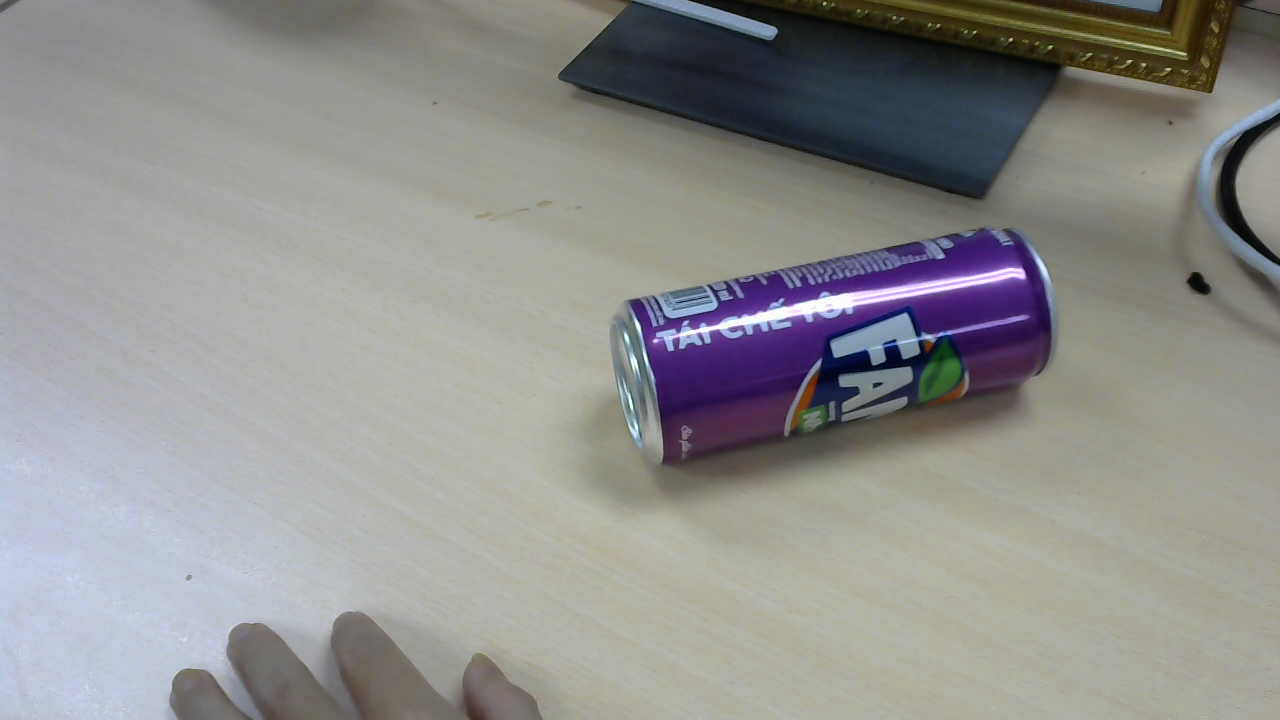Fanta: (617, 228, 1060, 471)
